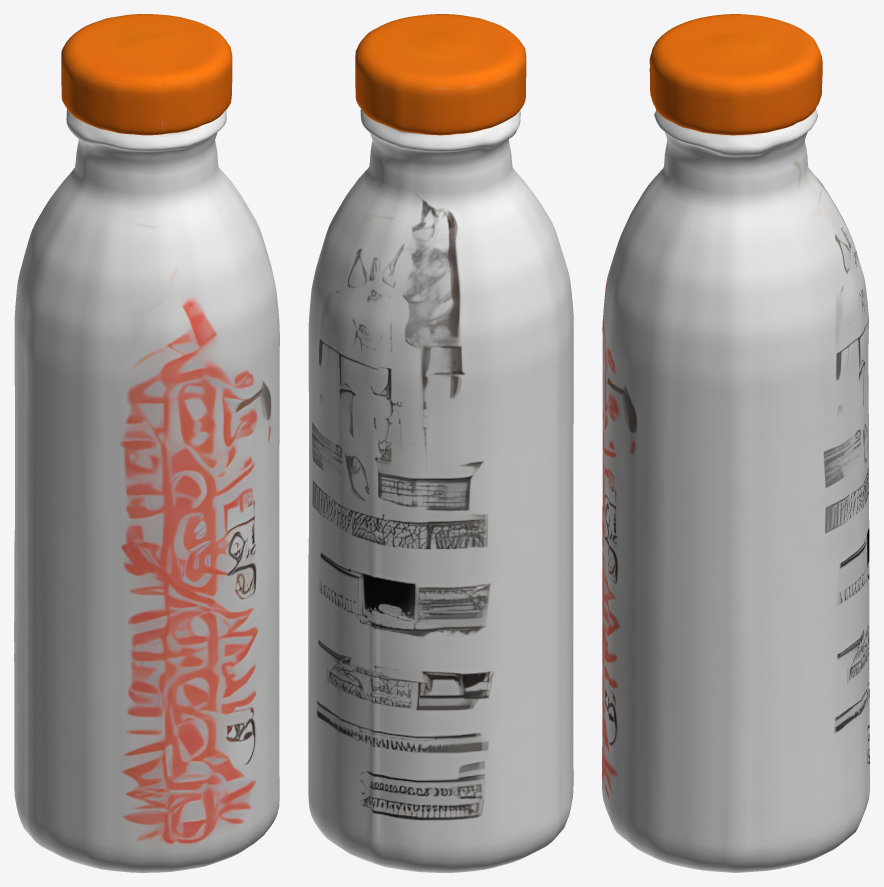
3 views of the same model, side by side, from view 1: azimuth 30°, elevation 25°; view 2: azimuth 150°, elevation 25°; view 3: azimuth 270°, elevation 25° (orthographic).
Parts seen in each view (by area): view 1: model; view 2: model; view 3: model.
Part boxes in pixels (<box>): model: <box>14,14,279,872</box>; model: <box>308,14,573,872</box>; model: <box>602,14,869,872</box>.
Bounding box in the file's own units: 0.5846 × 1.89 × 0.5804.
Materials: 1 (1 with a texture image).
